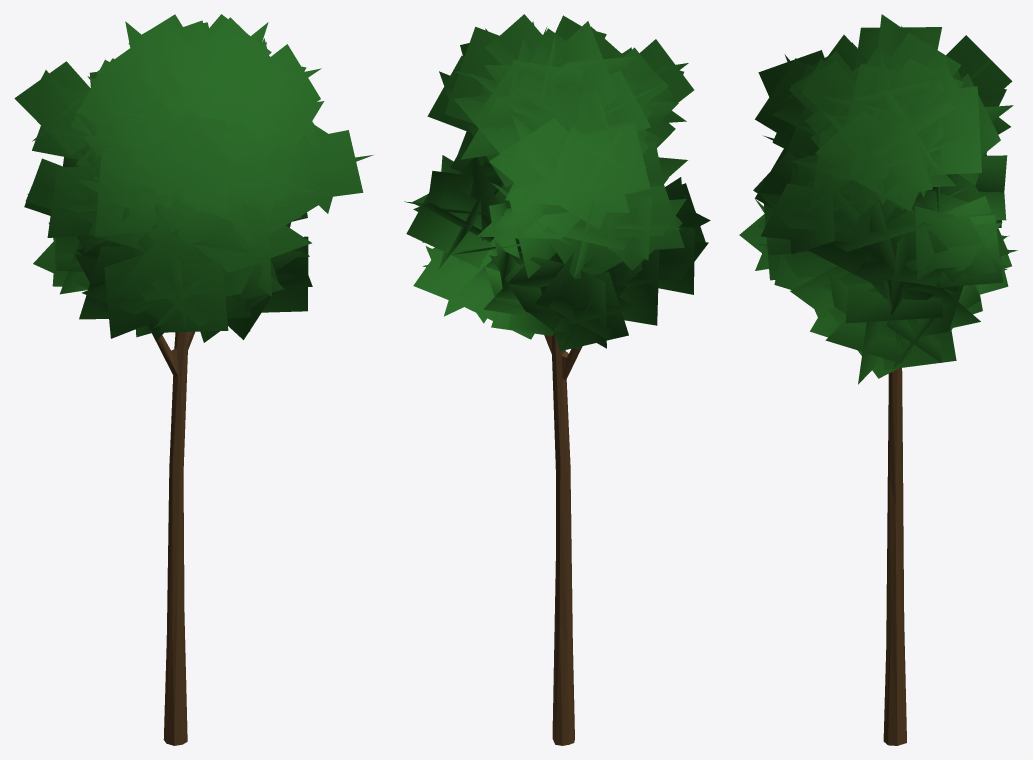
Rendered from SM_tree_01.fbx.
3 views of the same model, side by side, from view 1: azimuth 30°, elevation 25°; view 2: azimuth 150°, elevation 25°; view 3: azimuth 270°, elevation 25° (orthographic).
Parts seen in each view (by area): view 1: Object32445; view 2: Object32445; view 3: Object32445.
Boxes of the visible parts, <box> form: Object32445: <box>14,14,373,745</box>; Object32445: <box>404,14,710,745</box>; Object32445: <box>739,14,1017,745</box>.
Bounding box in the file's own units: 252 × 624 × 220.
